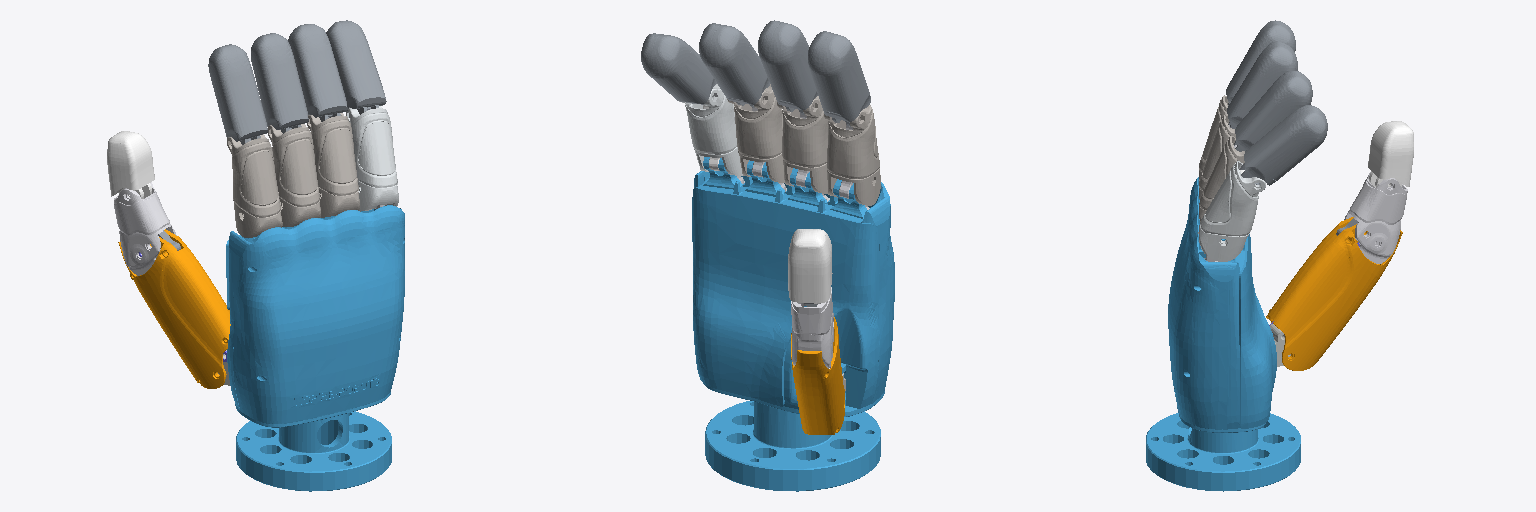
--- What the picture shows (computed from the rendered views, not written in the file) ---
The picture shows the robot from 3 angles, left to right: view 1: azimuth 30°, elevation 25°; view 2: azimuth 150°, elevation 25°; view 3: azimuth 270°, elevation 25°; orthographic projection.
Model inspire_tactile_hand with 32 links and 31 joints (24 revolute, 6 prismatic, 1 fixed), rooted at world, posed every joint at zero.
Visible links, largest first — view 1: hand_base_link, Link44, Link03, Link64, Link04, Link83, Link73, Link63, Link74, Link84, Link47, Link48; view 2: hand_base_link, Link04, Link03, Link44, Link74, Link64, Link84, Link73, Link63, Link83, Link48, Link47; view 3: hand_base_link, Link44, Link83, Link84, Link47, Link74, Link48, Link64, Link04, Link73, Link63, Link03.
Link boxes in pixels (bbox=[...]): hand_base_link: bbox=[226, 205, 404, 491]; Link44: bbox=[118, 229, 230, 388]; Link03: bbox=[227, 134, 282, 237]; Link64: bbox=[251, 33, 308, 133]; Link04: bbox=[208, 44, 267, 144]; Link83: bbox=[346, 106, 398, 211]; Link73: bbox=[307, 113, 359, 217]; Link63: bbox=[268, 124, 320, 226]; Link74: bbox=[288, 24, 347, 121]; Link84: bbox=[326, 20, 386, 114]; Link47: bbox=[114, 182, 176, 275]; Link48: bbox=[107, 131, 154, 198]; hand_base_link: bbox=[692, 157, 894, 491]; Link04: bbox=[808, 31, 870, 126]; Link03: bbox=[824, 105, 880, 205]; Link44: bbox=[791, 317, 844, 434]; Link74: bbox=[699, 23, 769, 107]; Link64: bbox=[758, 20, 817, 114]; Link84: bbox=[641, 33, 716, 104]; Link73: bbox=[727, 84, 784, 182]; Link63: bbox=[777, 96, 828, 193]; Link83: bbox=[679, 84, 742, 175]; Link48: bbox=[788, 229, 832, 303]; Link47: bbox=[791, 287, 833, 367]; hand_base_link: bbox=[1146, 177, 1300, 491]; Link44: bbox=[1266, 217, 1402, 370]; Link83: bbox=[1198, 161, 1265, 261]; Link84: bbox=[1239, 105, 1327, 185]; Link47: bbox=[1344, 172, 1407, 263]; Link74: bbox=[1234, 71, 1312, 151]; Link48: bbox=[1368, 121, 1413, 187]; Link64: bbox=[1227, 42, 1297, 128]; Link04: bbox=[1226, 20, 1295, 105]; Link73: bbox=[1199, 136, 1244, 221]; Link63: bbox=[1199, 114, 1235, 198]; Link03: bbox=[1199, 95, 1228, 180].
Bounding box of the posed robot: 0.1197 × 0.1343 × 0.2264 m (x, y, z).
Meshes: 31 distinct files referenced, 31 mesh visuals loaded (31 binary STL).

URDF robot description (inspire_tactile_hand):
<?xml version="1.0" encoding="utf-8"?>
<!-- This URDF was automatically created by SolidWorks to URDF Exporter! Originally created by Stephen Brawner ([email redacted]) 
     Commit Version: 1.6.0-4-g7f85cfe  Build Version: 1.6.7995.38578
     For more information, please see http://wiki.ros.org/sw_urdf_exporter -->
<robot
  name="inspire_tactile_hand">
  
  <link name="world"/>
  <joint name="fixed" type="fixed">
    <origin
      xyz="0.5 0.5 0.5"
      rpy="3.1415926 0 0" />
    <parent link="world"/>
    <child link="hand_base_link"/>
  </joint>
  
  <link
    name="hand_base_link">
    <inertial>
      <origin
        xyz="0.00040789 0.0043672 -0.042773"
        rpy="0 0 0" />
      <mass
        value="0.091809" />
      <inertia
        ixx="5.4116E-05"
        ixy="4.0634E-07"
        ixz="-1.041E-06"
        iyy="0.00010076"
        iyz="-4.6185E-07"
        izz="9.0663E-05" />
    </inertial>
    <visual>
      <origin
        xyz="0 0 0"
        rpy="0 0 0" />
      <geometry>
        <mesh
          filename="package://inspire_tactile_hand/meshes/base_link.STL" />
      </geometry>
      <material
        name="">
        <color>1 1 1 1</color>
      </material>
    </visual>
    <collision>
      <origin
        xyz="0 0 0"
        rpy="0 0 0" />
      <geometry>
        <mesh
          filename="package://inspire_tactile_hand/meshes/base_link.STL" />
      </geometry>
    </collision>
  </link>
  <link
    name="Link01">
    <inertial>
      <origin
        xyz="-0.0013075 0.00095537 -0.037441"
        rpy="0 0 0" />
      <mass
        value="0.010228" />
      <inertia
        ixx="4.5019E-06"
        ixy="1.389E-09"
        ixz="-1.4756E-07"
        iyy="4.4556E-06"
        iyz="3.959E-08"
        izz="2.8134E-07" />
    </inertial>
    <visual>
      <origin
        xyz="0 0 0"
        rpy="0 0 0" />
      <geometry>
        <mesh
          filename="package://inspire_tactile_hand/meshes/Link01.STL" />
      </geometry>
      <material
        name="">
        <color
          rgba="0.89412 0.91373 0.92941 1" />
      </material>
    </visual>
    <collision>
      <origin
        xyz="0 0 0"
        rpy="0 0 0" />
      <geometry>
        <mesh
          filename="package://inspire_tactile_hand/meshes/Link01.STL" />
      </geometry>
    </collision>
  </link>
  <joint
    name="joint001"
    type="revolute">
    <origin
      xyz="-0.028069 0.0068497 -0.041587"
      rpy="0 0 0" />
    <parent
      link="hand_base_link" />
    <child
      link="Link01" />
    <axis
      xyz="0.99939 0 -0.034899" />
    <limit
      lower="-2"
      upper="2"
      effort="50"
      velocity="1" />
  </joint>
  <link
    name="Link02">
    <inertial>
      <origin
        xyz="-0.00039499 -0.00011147 -0.011311"
        rpy="0 0 0" />
      <mass
        value="0.00096478" />
      <inertia
        ixx="6.7477E-08"
        ixy="-2.0942E-11"
        ixz="-2.1362E-09"
        iyy="6.7215E-08"
        iyz="-5.9961E-10"
        izz="6.3805E-09" />
    </inertial>
    <visual>
      <origin
        xyz="0 0 0"
        rpy="0 0 0" />
      <geometry>
        <mesh
          filename="package://inspire_tactile_hand/meshes/Link02.STL" />
      </geometry>
      <material
        name="">
        <color
          rgba="0.8902 0.8902 0.91373 1" />
      </material>
    </visual>
    <collision>
      <origin
        xyz="0 0 0"
        rpy="0 0 0" />
      <geometry>
        <mesh
          filename="package://inspire_tactile_hand/meshes/Link02.STL" />
      </geometry>
    </collision>
  </link>
  <joint
    name="joint012"
    type="prismatic">
    <origin
      xyz="-0.0024717 -0.00069757 -0.07078"
      rpy="0 0 0" />
    <parent
      link="Link01" />
    <child
      link="Link02" />
    <axis
      xyz="-0.034898 -0.009849 -0.99934" />
    <limit
      lower="-0.001"
      upper="0.0089"
      effort="50"
      velocity="1" />
  </joint>
  <link
    name="Link03">
    <inertial>
      <origin
        xyz="0.0024223 -0.0078624 -0.016577"
        rpy="0 0 0" />
      <mass
        value="0.0090333" />
      <inertia
        ixx="1.768E-06"
        ixy="-7.9691E-09"
        ixz="-3.4656E-08"
        iyy="1.7729E-06"
        iyz="-2.2807E-07"
        izz="7.7843E-07" />
    </inertial>
    <visual>
      <origin
        xyz="0 0 0"
        rpy="0 0 0" />
      <geometry>
        <mesh
          filename="package://inspire_tactile_hand/meshes/Link03.STL" />
      </geometry>
      <material
        name="">
        <color
          rgba="0.77647 0.75686 0.73725 1" />
      </material>
    </visual>
    <collision>
      <origin
        xyz="0 0 0"
        rpy="0 0 0" />
      <geometry>
        <mesh
          filename="package://inspire_tactile_hand/meshes/Link03.STL" />
      </geometry>
    </collision>
  </link>
  <joint
    name="joint023"
    type="revolute">
    <origin
      xyz="-0.0040346 -0.00029252 -0.029576"
      rpy="0 0 0" />
    <parent
      link="Link02" />
    <child
      link="Link03" />
    <axis
      xyz="-0.99939 0 0.034899" />
    <limit
      lower="-2"
      upper="2"
      effort="50"
      velocity="1" />
  </joint>
  <link
    name="Link04">
    <inertial>
      <origin
        xyz="0.0025725 -0.0077235 -0.02232"
        rpy="0 0 0" />
      <mass
        value="0.014494" />
      <inertia
        ixx="2.7886E-06"
        ixy="-2.9364E-08"
        ixz="-5.5659E-08"
        iyy="2.2885E-06"
        iyz="-8.4296E-07"
        izz="1.196E-06" />
    </inertial>
    <visual>
      <origin
        xyz="0 0 0"
        rpy="0 0 0" />
      <geometry>
        <mesh
          filename="package://inspire_tactile_hand/meshes/Link04.STL" />
      </geometry>
      <material
        name="">
        <color
          rgba="0.61569 0.64314 0.67451 1" />
      </material>
    </visual>
    <collision>
      <origin
        xyz="0 0 0"
        rpy="0 0 0" />
      <geometry>
        <mesh
          filename="package://inspire_tactile_hand/meshes/Link04.STL" />
      </geometry>
    </collision>
  </link>
  <joint
    name="joint034"
    type="revolute">
    <origin
      xyz="-0.0016841 -0.017353 -0.038198"
      rpy="0 0 0" />
    <parent
      link="Link03" />
    <child
      link="Link04" />
    <axis
      xyz="0.99939 0 -0.034899" />
    <limit
      lower="-2"
      upper="2"
      effort="50"
      velocity="1" />
  </joint>
  
  <gazebo>
  <joint
    name="joint003"
    type="revolute">
    <pose relative_to = "hand_base_link">-0.0345 -0.00015498 -0.14553 0 -1.5359 0</pose>
    <parent>hand_base_link</parent>
    <child>Link03</child>
    <axis>0 0 1</axis>
    <limit
      lower="-2"
      upper="2"
      effort="50"
      velocity="1" />
  </joint>
  </gazebo>
  
  <link
    name="Link05">
    <inertial>
      <origin
        xyz="0.0016013 0.0014238 -0.018617"
        rpy="0 0 0" />
      <mass
        value="0.00069948" />
      <inertia
        ixx="1.2081E-07"
        ixy="3.317E-10"
        ixz="-4.1019E-09"
        iyy="1.2037E-07"
        iyz="9.4987E-09"
        izz="3.4934E-09" />
    </inertial>
    <visual>
      <origin
        xyz="0 0 0"
        rpy="0 0 0" />
      <geometry>
        <mesh
          filename="package://inspire_tactile_hand/meshes/Link05.STL" />
      </geometry>
      <material
        name="">
        <color
          rgba="0.8902 0.8902 0.91373 1" />
      </material>
    </visual>
    <collision>
      <origin
        xyz="0 0 0"
        rpy="0 0 0" />
      <geometry>
        <mesh
          filename="package://inspire_tactile_hand/meshes/Link05.STL" />
      </geometry>
    </collision>
  </link>
  <joint
    name="joint005"
    type="revolute">
    <origin
      xyz="-0.033786 -0.0067159 -0.14085"
      rpy="0 0 0" />
    <parent
      link="hand_base_link" />
    <child
      link="Link05" />
    <axis
      xyz="0.99939 0 -0.034899" />
    <limit
      lower="-2"
      upper="2"
      effort="50"
      velocity="1" />
  </joint>
  
  <gazebo>
  <joint
    name="joint054"
    type="revolute">
    <pose relative_to = "Link05">-0.0032193 0.0026583 -0.036313 0 -1.5359 0</pose>
    <parent>Link05</parent>
    <child>Link04</child>
    <axis>0 0 -1</axis>
    <limit
      lower="-2"
      upper="2"
      effort="50"
      velocity="1" />
  </joint>
  </gazebo>
  
  
  
  <link
    name="Link41">
    <inertial>
      <origin
        xyz="-0.02607 -0.00010211 -0.0060545"
        rpy="0 0 0" />
      <mass
        value="0.010429" />
      <inertia
        ixx="7.6968E-07"
        ixy="-6.219E-09"
        ixz="-2.9412E-08"
        iyy="2.3567E-06"
        iyz="-1.1747E-10"
        izz="1.8027E-06" />
    </inertial>
    <visual>
      <origin
        xyz="0 0 0"
        rpy="0 0 0" />
      <geometry>
        <mesh
          filename="package://inspire_tactile_hand/meshes/Link41.STL" />
      </geometry>
      <material
        name="">
        <color
          rgba="0.75294 0.75294 0.75294 1" />
      </material>
    </visual>
    <collision>
      <origin
        xyz="0 0 0"
        rpy="0 0 0" />
      <geometry>
        <mesh
          filename="package://inspire_tactile_hand/meshes/Link41.STL" />
      </geometry>
    </collision>
  </link>
  <joint
    name="joint401"
    type="revolute">
    <origin
      xyz="0.033577 -0.0119 -0.04755"
      rpy="0 0 0" />
    <parent
      link="hand_base_link" />
    <child
      link="Link41" />
    <axis
      xyz="0 0 1" />
    <limit
      lower="-2"
      upper="2"
      effort="50"
      velocity="1" />
  </joint>
  <link
    name="Link42">
    <inertial>
      <origin
        xyz="-0.01074 -4.2071E-05 3.1818E-10"
        rpy="0 0 0" />
      <mass
        value="0.0006939" />
      <inertia
        ixx="6.1418E-09"
        ixy="-5.4783E-11"
        ixz="1.3215E-15"
        iyy="2.0129E-08"
        iyz="1.3405E-17"
        izz="2.0374E-08" />
    </inertial>
    <visual>
      <origin
        xyz="0 0 0"
        rpy="0 0 0" />
      <geometry>
        <mesh
          filename="package://inspire_tactile_hand/meshes/Link42.STL" />
      </geometry>
      <material
        name="">
        <color
          rgba="0.77647 0.75686 0.73725 1" />
      </material>
    </visual>
    <collision>
      <origin
        xyz="0 0 0"
        rpy="0 0 0" />
      <geometry>
        <mesh
          filename="package://inspire_tactile_hand/meshes/Link42.STL" />
      </geometry>
    </collision>
  </link>
  <joint
    name="joint412"
    type="prismatic">
    <origin
      xyz="-0.047038 -0.00018427 0"
      rpy="0 0 0" />
    <parent
      link="Link41" />
    <child
      link="Link42" />
    <axis
      xyz="0.99999 0.0039175 0" />
    <limit
      lower="-0.0027"
      upper="0.006"
      effort="50"
      velocity="1" />
  </joint>
  <link
    name="Link43">
    <inertial>
      <origin
        xyz="-0.00093154 -0.012832 0.0053322"
        rpy="0 0 0" />
      <mass
        value="0.0020853" />
      <inertia
        ixx="1.1253E-07"
        ixy="-6.7093E-09"
        ixz="-1.4985E-09"
        iyy="7.7841E-08"
        iyz="-5.6524E-09"
        izz="8.0107E-08" />
    </inertial>
    <visual>
      <origin
        xyz="0 0 0"
        rpy="0 0 0" />
      <geometry>
        <mesh
          filename="package://inspire_tactile_hand/meshes/Link43.STL" />
      </geometry>
      <material
        name="">
        <color
          rgba="0.82745 0.83922 0.82745 1" />
      </material>
    </visual>
    <collision>
      <origin
        xyz="0 0 0"
        rpy="0 0 0" />
      <geometry>
        <mesh
          filename="package://inspire_tactile_hand/meshes/Link43.STL" />
      </geometry>
    </collision>
  </link>
  <joint
    name="joint423"
    type="revolute">
    <origin
      xyz="-0.01625 -6.3659E-05 -0.0065"
      rpy="0 0 0" />
    <parent
      link="Link42" />
    <child
      link="Link43" />
    <axis
      xyz="0 0 1" />
    <limit
      lower="-2"
      upper="2"
      effort="50"
      velocity="1" />
  </joint>
  <link
    name="Link44">
    <inertial>
      <origin
        xyz="-0.0043015 -0.022596 -0.023668"
        rpy="0 0 0" />
      <mass
        value="0.010572" />
      <inertia
        ixx="6.7103E-06"
        ixy="-8.3093E-07"
        ixz="-8.5679E-07"
        iyy="5.2737E-06"
        iyz="-1.8755E-06"
        izz="3.1575E-06" />
    </inertial>
    <visual>
      <origin
        xyz="0 0 0"
        rpy="0 0 0" />
      <geometry>
        <mesh
          filename="package://inspire_tactile_hand/meshes/Link44.STL" />
      </geometry>
      <material
        name="">
        <color
          rgba="1 0.66667 0.090196 1" />
      </material>
    </visual>
    <collision>
      <origin
        xyz="0 0 0"
        rpy="0 0 0" />
      <geometry>
        <mesh
          filename="package://inspire_tactile_hand/meshes/Link44.STL" />
      </geometry>
    </collision>
  </link>
  <joint
    name="joint434"
    type="revolute">
    <origin
      xyz="-0.0078317 -0.015666 0.0069"
      rpy="0 0 0" />
    <parent
      link="Link43" />
    <child
      link="Link44" />
    <axis
      xyz="-0.90914 0.4165 0" />
    <limit
      lower="-2"
      upper="2"
      effort="50"
      velocity="1" />
  </joint>
  <link
    name="Link45">
    <inertial>
      <origin
        xyz="-0.0052468 -0.011453 -0.023466"
        rpy="0 0 0" />
      <mass
        value="0.010821" />
      <inertia
        ixx="2.2232E-06"
        ixy="-3.6867E-07"
        ixz="-2.11E-07"
        iyy="1.5873E-06"
        iyz="-4.6058E-07"
        izz="1.193E-06" />
    </inertial>
    <visual>
      <origin
        xyz="0 0 0"
        rpy="0 0 0" />
      <geometry>
        <mesh
          filename="package://inspire_tactile_hand/meshes/Link45.STL" />
      </geometry>
      <material
        name="">
        <color
          rgba="1 1 1 1" />
      </material>
    </visual>
    <collision>
      <origin
        xyz="0 0 0"
        rpy="0 0 0" />
      <geometry>
        <mesh
          filename="package://inspire_tactile_hand/meshes/Link45.STL" />
      </geometry>
    </collision>
  </link>
  <joint
    name="joint445"
    type="revolute">
    <origin
      xyz="0.00088606 -0.011271 -0.00010738"
      rpy="0 0 0" />
    <parent
      link="Link44" />
    <child
      link="Link45" />
    <axis
      xyz="0.90914 -0.4165 0" />
    <limit
      lower="-2"
      upper="2"
      effort="50"
      velocity="1" />
  </joint>
  <link
    name="Link46">
    <inertial>
      <origin
        xyz="-0.0015687 -0.0034242 -0.0043416"
        rpy="0 0 0" />
      <mass
        value="0.00054209" />
      <inertia
        ixx="8.7659E-09"
        ixy="-8.607E-10"
        ixz="-1.0691E-09"
        iyy="7.2814E-09"
        iyz="-2.3337E-09"
        izz="6.155E-09" />
    </inertial>
    <visual>
      <origin
        xyz="0 0 0"
        rpy="0 0 0" />
      <geometry>
        <mesh
          filename="package://inspire_tactile_hand/meshes/Link46.STL" />
      </geometry>
      <material
        name="">
        <color
          rgba="0.77647 0.75686 0.73725 1" />
      </material>
    </visual>
    <collision>
      <origin
        xyz="0 0 0"
        rpy="0 0 0" />
      <geometry>
        <mesh
          filename="package://inspire_tactile_hand/meshes/Link46.STL" />
      </geometry>
    </collision>
  </link>
  <joint
    name="joint456"
    type="prismatic">
    <origin
      xyz="-0.013096 -0.028586 -0.036244"
      rpy="0 0 0" />
    <parent
      link="Link45" />
    <child
      link="Link46" />
    <axis
      xyz="0.27293 0.59575 0.75537" />
    <limit
      lower="-0.0058"
      upper="0.0042"
      effort="50"
      velocity="1" />
  </joint>
  <link
    name="Link47">
    <inertial>
      <origin
        xyz="0.0033514 -0.00228 -0.016194"
        rpy="0 0 0" />
      <mass
        value="0.0057253" />
      <inertia
        ixx="8.817E-07"
        ixy="-2.5206E-08"
        ixz="-2.7134E-08"
        iyy="8.3807E-07"
        iyz="-5.9117E-08"
        izz="5.0904E-07" />
    </inertial>
    <visual>
      <origin
        xyz="0 0 0"
        rpy="0 0 0" />
      <geometry>
        <mesh
          filename="package://inspire_tactile_hand/meshes/Link47.STL" />
      </geometry>
      <material
        name="">
        <color
          rgba="0.8902 0.8902 0.91373 1" />
      </material>
    </visual>
    <collision>
      <origin
        xyz="0 0 0"
        rpy="0 0 0" />
      <geometry>
        <mesh
          filename="package://inspire_tactile_hand/meshes/Link47.STL" />
      </geometry>
    </collision>
  </link>
  <joint
    name="joint467"
    type="revolute">
    <origin
      xyz="-0.0077305 -0.0072703 -0.011331"
      rpy="0 0 0" />
    <parent
      link="Link46" />
    <child
      link="Link47" />
    <axis
      xyz="-0.90914 0.4165 0" />
    <limit
      lower="-2"
      upper="2"
      effort="50"
      velocity="1" />
  </joint>
  <link
    name="Link48">
    <inertial>
      <origin
        xyz="0.0025446 -0.0064579 -0.013497"
        rpy="0 0 0" />
      <mass
        value="0.0085167" />
      <inertia
        ixx="7.8199E-07"
        ixy="-1.7948E-09"
        ixz="-1.5676E-08"
        iyy="7.7878E-07"
        iyz="-3.332E-08"
        izz="4.227E-07" />
    </inertial>
    <visual>
      <origin
        xyz="0 0 0"
        rpy="0 0 0" />
      <geometry>
        <mesh
          filename="package://inspire_tactile_hand/meshes/Link48.STL" />
      </geometry>
      <material
        name="">
        <color
          rgba="1 1 1 1" />
      </material>
    </visual>
    <collision>
      <origin
        xyz="0 0 0"
        rpy="0 0 0" />
      <geometry>
        <mesh
          filename="package://inspire_tactile_hand/meshes/Link48.STL" />
      </geometry>
    </collision>
  </link>
  <joint
    name="joint478"
    type="revolute">
    <origin
      xyz="-0.0026009 -0.0032704 -0.035056"
      rpy="0 0 0" />
    <parent
      link="Link47" />
    <child
      link="Link48" />
    <axis
      xyz="-0.90914 0.4165 0" />
    <limit
      lower="-2"
      upper="2"
      effort="50"
      velocity="1" />
  </joint>
  <link
    name="Link49">
    <inertial>
      <origin
        xyz="-0.0036703 -0.013894 -0.011545"
        rpy="0 0 0" />
      <mass
        value="0.00041351" />
      <inertia
        ixx="6.5362E-08"
        ixy="-1.646E-08"
        ixz="-1.4617E-08"
        iyy="3.6973E-08"
        iyz="-3.1907E-08"
        izz="4.5125E-08" />
    </inertial>
    <visual>
      <origin
        xyz="0 0 0"
        rpy="0 0 0" />
      <geometry>
        <mesh
          filename="package://inspire_tactile_hand/meshes/Link49.STL" />
      </geometry>
      <material
        name="">
        <color
          rgba="0.61569 0.64314 0.67451 1" />
      </material>
    </visual>
    <collision>
      <origin
        xyz="0 0 0"
        rpy="0 0 0" />
      <geometry>
        <mesh
          filename="package://inspire_tactile_hand/meshes/Link49.STL" />
      </geometry>
    </collision>
  </link>
  <joint
    name="joint449"
    type="revolute">
    <origin
      xyz="-0.010887 -0.031082 -0.056915"
      rpy="0 0 0" />
    <parent
      link="Link44" />
    <child
      link="Link49" />
    <axis
      xyz="0.90914 -0.4165 0" />
    <limit
      lower="-2"
      upper="2"
      effort="50"
      velocity="1" />
  </joint>
  
  <gazebo>
  <joint
    name="joint498"
    type="revolute">
    <pose relative_to = "Link49">-0.013754 -0.0239 -0.022185 0.42959 1.5708 0</pose>
    <parent>Link49</parent>
    <child>Link48</child>
    <axis>0 0 -1</axis>
    <limit
      lower="-2"
      upper="2"
      effort="50"
      velocity="1" />
  </joint>
  </gazebo>
  
  <gazebo>
  <joint
    name="joint447"
    type="revolute">
    <pose relative_to = "Link44">-0.017556 -0.038119 -0.058998 0.42959 1.5708 0</pose>
    <parent>Link44</parent>
    <child>Link47</child>
    <axis>0 0 -1</axis>
    <limit
      lower="-2"
      upper="2"
      effort="50"
      velocity="1" />
  </joint>
  </gazebo>
  
  <link
    name="Link50">
    <inertial>
      <origin
        xyz="-0.0099913 -0.02301 -0.021601"
        rpy="0 0 0" />
      <mass
        value="0.00041134" />
      <inertia
        ixx="1.4792E-07"
        ixy="-3.562E-08"
        ixz="-3.331E-08"
        iyy="8.6481E-08"
        iyz="-7.2709E-08"
        izz="9.414E-08" />
    </inertial>
    <visual>
      <origin
        xyz="0 0 0"
        rpy="0 0 0" />
      <geometry>
        <mesh
          filename="package://inspire_tactile_hand/meshes/Link50.STL" />
      </geometry>
      <material
        name="">
        <color
          rgba="0.52157 0.49804 1 1" />
      </material>
    </visual>
    <collision>
      <origin
        xyz="0 0 0"
        rpy="0 0 0" />
      <geometry>
        <mesh
          filename="package://inspire_tactile_hand/meshes/Link50.STL" />
      </geometry>
    </collision>
  </link>
  <joint
    name="joint4350"
    type="revolute">
    <origin
      xyz="-0.0076736 -0.01292 -0.0026627"
      rpy="0 0 0" />
    <parent
      link="Link43" />
    <child
      link="Link50" />
    <axis
      xyz="0.90914 -0.4165 0" />
    <limit
      lower="-2"
      upper="2"
      effort="50"
      velocity="1" />
  </joint>
  
  <gazebo>
  <joint
    name="joint5047"
    type="revolute">
    <pose relative_to = "Link50">-0.019983 -0.046019 -0.043201 2.712 -1.5708 0</pose>
    <parent>Link50</parent>
    <child>Link47</child>
    <axis>0 0 -1</axis>
    <limit
      lower="-2"
      upper="2"
      effort="50"
      velocity="1" />
  </joint>
  </gazebo>
  
  <gazebo>
  <joint
    name="joint0043"
    type="revolute">
    <pose relative_to = "hand_base_link">-0.027753 -0.01965 -0.04105 0 0 0</pose>
    <parent>hand_base_link</parent>
    <child>Link43</child>
    <axis>0 0 -1</axis>
    <limit
      lower="-2"
      upper="2"
      effort="50"
      velocity="1" />
  </joint>
  </gazebo>
  
  
  
  
  
  <link
    name="Link61">
    <inertial>
      <origin
        xyz="-5.8081E-09 0.00096977 -0.037464"
        rpy="0 0 0" />
      <mass
        value="0.010228" />
      <inertia
        ixx="4.507E-06"
        ixy="6.4862E-12"
        ixz="2.1739E-12"
        iyy="4.4556E-06"
        iyz="4.1221E-08"
        izz="2.7622E-07" />
    </inertial>
    <visual>
      <origin
        xyz="0 0 0"
        rpy="0 0 0" />
      <geometry>
        <mesh
          filename="package://inspire_tactile_hand/meshes/Link61.STL" />
      </geometry>
      <material
        name="">
        <color
          rgba="0.89412 0.91373 0.92941 1" />
      </material>
    </visual>
    <collision>
      <origin
        xyz="0 0 0"
        rpy="0 0 0" />
      <geometry>
        <mesh
          filename="package://inspire_tactile_hand/meshes/Link61.STL" />
      </geometry>
    </collision>
  </link>
  <joint
    name="joint601"
    type="revolute">
    <origin
      xyz="-0.0093101 0.0068497 -0.0419"
      rpy="0 0 0" />
    <parent
      link="hand_base_link" />
    <child
      link="Link61" />
    <axis
      xyz="1 0 0" />
    <limit
      lower="-2"
      upper="2"
      effort="50"
      velocity="1" />
  </joint>
  <link
    name="Link62">
    <inertial>
      <origin
        xyz="8.9543E-11 -0.00010713 -0.011318"
        rpy="0 0 0" />
      <mass
        value="0.00096478" />
      <inertia
        ixx="6.7552E-08"
        ixy="-3.0314E-15"
        ixz="1.5268E-15"
        iyy="6.7216E-08"
        iyz="-5.7659E-10"
        izz="6.3055E-09" />
    </inertial>
    <visual>
      <origin
        xyz="0 0 0"
        rpy="0 0 0" />
      <geometry>
        <mesh
          filename="package://inspire_tactile_hand/meshes/Link62.STL" />
      </geometry>
      <material
        name="">
        <color
          rgba="0.8902 0.8902 0.91373 1" />
      </material>
    </visual>
    <collision>
      <origin
        xyz="0 0 0"
        rpy="0 0 0" />
      <geometry>
        <mesh
          filename="package://inspire_tactile_hand/meshes/Link62.STL" />
      </geometry>
    </collision>
  </link>
  <joint
    name="joint612"
    type="prismatic">
    <origin
      xyz="0 -0.00067089 -0.07088"
      rpy="0 0 0" />
    <parent
      link="Link61" />
    <child
      link="Link62" />
    <axis
      xyz="0 -0.0094647 -0.99996" />
    <limit
      lower="-0.001"
      upper="0.00875"
      effort="50"
      velocity="1" />
  </joint>
  <link
    name="Link63">
    <inertial>
      <origin
        xyz="0.0029993 -0.0080389 -0.016397"
        rpy="0 0 0" />
      <mass
        value="0.0090333" />
      <inertia
        ixx="1.7692E-06"
        ixy="-4.4344E-12"
        ixz="-5.4693E-11"
        iyy="1.7679E-06"
        iyz="-2.3885E-07"
        izz="7.8224E-07" />
    </inertial>
    <visual>
      <origin
        xyz="0 0 0"
        rpy="0 0 0" />
      <geometry>
        <mesh
          filename="package://inspire_tactile_hand/meshes/Link63.STL" />
      </geometry>
      <material
        name="">
        <color
          rgba="0.77647 0.75686 0.73725 1" />
      </material>
    </visual>
    <collision>
      <origin
        xyz="0 0 0"
        rpy="0 0 0" />
      <geometry>
        <mesh
          filename="package://inspire_tactile_hand/meshes/Link63.STL" />
      </geometry>
    </collision>
  </link>
  <joint
    name="joint623"
    type="revolute">
    <origin
      xyz="-0.003 -0.0002811 -0.029699"
      rpy="0 0 0" />
    <parent
      link="Link62" />
    <child
      link="Link63" />
    <axis
      xyz="-1 0 0" />
    <limit
      lower="-2"
      upper="2"
      effort="50"
      velocity="1" />
  </joint>
  <link
    name="Link64">
    <inertial>
      <origin
        xyz="0.0044999 -0.0081547 -0.022062"
        rpy="0 0 0" />
      <mass
        value="0.014494" />
      <inertia
        ixx="2.7905E-06"
        ixy="7.3203E-11"
        ixz="2.4362E-11"
        iyy="2.2552E-06"
        iyz="-8.6414E-07"
        izz="1.2273E-06" />
    </inertial>
    <visual>
      <origin
        xyz="0 0 0"
        rpy="0 0 0" />
      <geometry>
        <mesh
          filename="package://inspire_tactile_hand/meshes/Link64.STL" />
      </geometry>
      <material
        name="">
        <color
          rgba="0.61569 0.64314 0.67451 1" />
      </material>
    </visual>
    <collision>
      <origin
        xyz="0 0 0"
        rpy="0 0 0" />
      <geometry>
        <mesh
          filename="package://inspire_tactile_hand/meshes/Link64.STL" />
      </geometry>
    </collision>
  </link>
  <joint
    name="joint634"
    type="revolute">
    <origin
      xyz="-0.0015 -0.017763 -0.038045"
      rpy="0 0 0" />
    <parent
      link="Link63" />
    <child
      link="Link64" />
    <axis
      xyz="1 0 0" />
    <limit
      lower="-2"
      upper="2"
      effort="50"
      velocity="1" />
  </joint>
  
  <gazebo>
  <joint
    name="joint603"
    type="revolute">
    <pose relative_to = "hand_base_link">-0.01231 -0.00015498 -0.146 0 1.5708 0</pose>
    <parent>hand_base_link</parent>
    <child>Link63</child>
    <axis>0 0 1</axis>
    <limit
      lower="-2"
      upper="2"
      effort="50"
      velocity="1" />
  </joint>
  </gazebo>
  
  <link
    name="Link65">
    <inertial>
      <origin
        xyz="0.00225 0.0012631 -0.018561"
        rpy="0 0 0" />
      <mass
        value="0.00069948" />
      <inertia
        ixx="1.2096E-07"
        ixy="-9.2445E-19"
        ixz="5.4764E-18"
        iyy="1.2053E-07"
        iyz="8.49E-09"
        izz="3.1944E-09" />
    </inertial>
    <visual>
      <origin
        xyz="0 0 0"
        rpy="0 0 0" />
      <geometry>
        <mesh
          filename="package://inspire_tactile_hand/meshes/Link65.STL" />
      </geometry>
      <material
        name="">
        <color
          rgba="0.8902 0.8902 0.91373 1" />
      </material>
    </visual>
    <collision>
      <origin
        xyz="0 0 0"
        rpy="0 0 0" />
      <geometry>
        <mesh
          filename="package://inspire_tactile_hand/meshes/Link65.STL" />
      </geometry>
    </collision>
  </link>
  <joint
    name="joint605"
    type="revolute">
    <origin
      xyz="-0.01156 -0.0067159 -0.14129"
      rpy="0 0 0" />
    <parent
      link="hand_base_link" />
    <child
      link="Link65" />
    <axis
      xyz="1 0 0" />
    <limit
      lower="-2"
      upper="2"
      effort="50"
      velocity="1" />
  </joint>
  
  <gazebo>
  <joint
    name="joint654"
    type="revolute">
    <pose relative_to = "Link65">0 0.002343 -0.036425 3.1416 -1.5708 0</pose>
    <parent>Link65</parent>
    <child>Link64</child>
    <axis>0 0 -1</axis>
    <limit
      lower="-2"
      upper="2"
      effort="50"
      velocity="1" />
  </joint>
  </gazebo>
  
  
  
  
  
  <link
    name="Link71">
    <inertial>
      <origin
        xyz="0.0019618 0.0011225 -0.037408"
        rpy="0 0 0" />
      <mass
        value="0.010228" />
      <inertia
        ixx="4.4954E-06"
        ixy="-3.0443E-09"
        ixz="2.2125E-07"
        iyy="4.4552E-06"
        iyz="5.8174E-08"
        izz="2.8823E-07" />
    </inertial>
    <visual>
      <origin
        xyz="0 0 0"
        rpy="0 0 0" />
      <geometry>
        <mesh
          filename="package://inspire_tactile_hand/meshes/Link71.STL" />
      </geometry>
      <material
        name="">
        <color
          rgba="0.89412 0.91373 0.92941 1" />
      </material>
    </visual>
    <collision>
      <origin
        xyz="0 0 0"
        rpy="0 0 0" />
      <geometry>
        <mesh
          filename="package://inspire_tactile_hand/meshes/Link71.STL" />
      </geometry>
    </collision>
  </link>
  <joint
    name="joint701"
    type="revolute">
    <origin
      xyz="0.0075691 0.0068497 -0.041418"
      rpy="0 0 0" />
    <parent
      link="hand_base_link" />
    <child
      link="Link71" />
    <axis
      xyz="0.99863 0 0.05237" />
    <limit
      lower="-2"
      upper="2"
      effort="50"
      velocity="1" />
  </joint>
  <link
    name="Link72">
    <inertial>
      <origin
        xyz="0.00059274 -6.0994E-05 -0.011303"
        rpy="0 0 0" />
      <mass
        value="0.00096478" />
      <inertia
        ixx="6.7384E-08"
        ixy="1.719E-11"
        ixz="3.2033E-09"
        iyy="6.722E-08"
        iyz="-3.2784E-10"
        izz="6.4698E-09" />
    </inertial>
    <visual>
      <origin
        xyz="0 0 0"
        rpy="0 0 0" />
      <geometry>
        <mesh
          filename="package://inspire_tactile_hand/meshes/Link72.STL" />
      </geometry>
      <material
        name="">
        <color
          rgba="0.8902 0.8902 0.91373 1" />
      </material>
    </visual>
    <collision>
      <origin
        xyz="0 0 0"
        rpy="0 0 0" />
      <geometry>
        <mesh
          filename="package://inspire_tactile_hand/meshes/Link72.STL" />
      </geometry>
    </collision>
  </link>
  <joint
    name="joint712"
    type="prismatic">
    <origin
      xyz="0.0037717 -0.00038812 -0.07192"
      rpy="0 0 0" />
    <parent
      link="Link71" />
    <child
      link="Link72" />
    <axis
      xyz="0.05237 -0.005389 -0.99861" />
    <limit
      lower="-0.0015"
      upper="0.0083"
      effort="50"
      velocity="1" />
  </joint>
  <link
    name="Link73">
    <inertial>
      <origin
        xyz="0.0038023 -0.0094406 -0.015218"
        rpy="0 0 0" />
      <mass
        value="0.0090332" />
      <inertia
        ixx="1.7667E-06"
        ixy="1.6357E-08"
        ixz="4.9311E-08"
        iyy="1.7247E-06"
        iyz="-3.1204E-07"
        izz="8.28E-07" />
    </inertial>
    <visual>
      <origin
        xyz="0 0 0"
        rpy="0 0 0" />
      <geometry>
        <mesh
          filename="package://inspire_tactile_hand/meshes/Link73.STL" />
      </geometry>
      <material
        name="">
        <color
          rgba="0.77647 0.75686 0.73725 1" />
      </material>
    </visual>
    <collision>
      <origin
        xyz="0 0 0"
        rpy="0 0 0" />
      <geometry>
        <mesh
          filename="package://inspire_tactile_hand/meshes/Link73.STL" />
      </geometry>
    </collision>
  </link>
  <joint
    name="joint723"
    type="revolute">
    <origin
      xyz="-0.0014405 -0.00016005 -0.029816"
      rpy="0 0 0" />
    <parent
      link="Link72" />
    <child
      link="Link73" />
    <axis
      xyz="-0.99863 0 -0.05237" />
    <limit
      lower="-2"
      upper="2"
      effort="50"
      velocity="1" />
  </joint>
  <link
    name="Link74">
    <inertial>
      <origin
        xyz="0.0052769 -0.01121 -0.02043"
        rpy="0 0 0" />
      <mass
        value="0.014495" />
      <inertia
        ixx="2.7871E-06"
        ixy="5.1066E-08"
        ixz="6.7946E-08"
        iyy="1.9912E-06"
        iyz="-9.7258E-07"
        izz="1.495E-06" />
    </inertial>
    <visual>
      <origin
        xyz="0 0 0"
        rpy="0 0 0" />
      <geometry>
        <mesh
          filename="package://inspire_tactile_hand/meshes/Link74.STL" />
      </geometry>
      <material
        name="">
        <color
          rgba="0.61569 0.64314 0.67451 1" />
      </material>
    </visual>
    <collision>
      <origin
        xyz="0 0 0"
        rpy="0 0 0" />
      <geometry>
        <mesh
          filename="package://inspire_tactile_hand/meshes/Link74.STL" />
      </geometry>
    </collision>
  </link>
  <joint
    name="joint734"
    type="revolute">
    <origin
      xyz="0.00069906 -0.020824 -0.036228"
      rpy="0 0 0" />
    <parent
      link="Link73" />
    <child
      link="Link74" />
    <axis
      xyz="0.99863 0 0.05237" />
    <limit
      lower="-2"
      upper="2"
      effort="50"
      velocity="1" />
  </joint>
  
  <gazebo>
  <joint
    name="joint703"
    type="revolute">
    <pose relative_to = "hand_base_link">0.010242 -0.00015498 -0.14584 0 1.5184 0</pose>
    <parent>hand_base_link</parent>
    <child>Link73</child>
    <axis>0.05237 0 0.99863</axis>
    <limit
      lower="-2"
      upper="2"
      effort="50"
      velocity="1" />
  </joint>
  </gazebo>
  
  <link
    name="Link75">
    <inertial>
      <origin
        xyz="0.0032212 7.3093E-05 -0.018461"
        rpy="0 0 0" />
      <mass
        value="0.00069948" />
      <inertia
        ixx="1.2063E-07"
        ixy="-4.8676E-11"
        ixz="6.1904E-09"
        iyy="1.2113E-07"
        iyz="9.2819E-10"
        izz="2.9152E-09" />
    </inertial>
    <visual>
      <origin
        xyz="0 0 0"
        rpy="0 0 0" />
      <geometry>
        <mesh
          filename="package://inspire_tactile_hand/meshes/Link75.STL" />
      </geometry>
      <material
        name="">
        <color
          rgba="0.8902 0.8902 0.91373 1" />
      </material>
    </visual>
    <collision>
      <origin
        xyz="0 0 0"
        rpy="0 0 0" />
      <geometry>
        <mesh
          filename="package://inspire_tactile_hand/meshes/Link75.STL" />
      </geometry>
    </collision>
  </link>
  <joint
    name="joint705"
    type="revolute">
    <origin
      xyz="0.010545 -0.0067159 -0.14112"
      rpy="0 0 0" />
    <parent
      link="hand_base_link" />
    <child
      link="Link75" />
    <axis
      xyz="0.99863 0 0.05237" />
    <limit
      lower="-2"
      upper="2"
      effort="50"
      velocity="1" />
  </joint>
  
  <gazebo>
  <joint
    name="joint754"
    type="revolute">
    <pose relative_to = "Link75">-3.5806E-05 0 -0.036552 -3.1416 -1.5184 3.1416</pose>
    <parent>Link75</parent>
    <child>Link74</child>
    <axis>0 0 -1</axis>
    <limit
      lower="-2"
      upper="2"
      effort="50"
      velocity="1" />
  </joint>
  </gazebo>
  
  
  
  
  
  
  <link
    name="Link81">
    <inertial>
      <origin
        xyz="0.0039155 0.0011531 -0.037253"
        rpy="0 0 0" />
      <mass
        value="0.010228" />
      <inertia
        ixx="4.4608E-06"
        ixy="-6.44E-09"
        ixz="4.3977E-07"
        iyy="4.4551E-06"
        iyz="6.1335E-08"
        izz="3.2294E-07" />
    </inertial>
    <visual>
      <origin
        xyz="0 0 0"
        rpy="0 0 0" />
      <geometry>
        <mesh
          filename="package://inspire_tactile_hand/meshes/Link81.STL" />
      </geometry>
      <material
        name="">
        <color
          rgba="0.89412 0.91373 0.92941 1" />
      </material>
    </visual>
    <collision>
      <origin
        xyz="0 0 0"
        rpy="0 0 0" />
      <geometry>
        <mesh
          filename="package://inspire_tactile_hand/meshes/Link81.STL" />
      </geometry>
    </collision>
  </link>
  <joint
    name="joint801"
    type="revolute">
    <origin
      xyz="0.024584 0.0068497 -0.040053"
      rpy="0 0 0" />
    <parent
      link="hand_base_link" />
    <child
      link="Link81" />
    <axis
      xyz="0.99452 0 0.10453" />
    <limit
      lower="-2"
      upper="2"
      effort="50"
      velocity="1" />
  </joint>
  <link
    name="Link82">
    <inertial>
      <origin
        xyz="0.0011831 -5.1734E-05 -0.011256"
        rpy="0 0 0" />
      <mass
        value="0.00096478" />
      <inertia
        ixx="6.6883E-08"
        ixy="2.9102E-11"
        ixz="6.3674E-09"
        iyy="6.722E-08"
        iyz="-2.7692E-10"
        izz="6.9705E-09" />
    </inertial>
    <visual>
      <origin
        xyz="0 0 0"
        rpy="0 0 0" />
      <geometry>
        <mesh
          filename="package://inspire_tactile_hand/meshes/Link82.STL" />
      </geometry>
      <material
        name="">
        <color
          rgba="0.8902 0.8902 0.91373 1" />
      </material>
    </visual>
    <collision>
      <origin
        xyz="0 0 0"
        rpy="0 0 0" />
      <geometry>
        <mesh
          filename="package://inspire_tactile_hand/meshes/Link82.STL" />
      </geometry>
    </collision>
  </link>
  <joint
    name="joint812"
    type="prismatic">
    <origin
      xyz="0.0075062 -0.00032824 -0.071417"
      rpy="0 0 0" />
    <parent
      link="Link81" />
    <child
      link="Link82" />
    <axis
      xyz="0.10453 -0.0045708 -0.99451" />
    <limit
      lower="-0.002"
      upper="0.0079"
      effort="50"
      velocity="1" />
  </joint>
  <link
    name="Link83">
    <inertial>
      <origin
        xyz="0.0045388 -0.010579 -0.01449"
        rpy="0 0 0" />
      <mass
        value="0.0090332" />
      <inertia
        ixx="1.7596E-06"
        ixy="4.0057E-08"
        ixz="9.1983E-08"
        iyy="1.6662E-06"
        iyz="-3.8124E-07"
        izz="8.936E-07" />
    </inertial>
    <visual>
      <origin
        xyz="0 0 0"
        rpy="0 0 0" />
      <geometry>
        <mesh
          filename="package://inspire_tactile_hand/meshes/Link83.STL" />
      </geometry>
      <material
        name="">
        <color
          rgba="0.89804 0.91765 0.92941 1" />
      </material>
    </visual>
    <collision>
      <origin
        xyz="0 0 0"
        rpy="0 0 0" />
      <geometry>
        <mesh
          filename="package://inspire_tactile_hand/meshes/Link83.STL" />
      </geometry>
    </collision>
  </link>
  <joint
    name="joint823"
    type="revolute">
    <origin
      xyz="0.0001209 -0.00013575 -0.029851"
      rpy="0 0 0" />
    <parent
      link="Link82" />
    <child
      link="Link83" />
    <axis
      xyz="-0.99452 0 -0.10453" />
    <limit
      lower="-2"
      upper="2"
      effort="50"
      velocity="1" />
  </joint>
  <link
    name="Link84">
    <inertial>
      <origin
        xyz="0.0061306 -0.014278 -0.018151"
        rpy="0 0 0" />
      <mass
        value="0.014495" />
      <inertia
        ixx="2.7798E-06"
        ixy="1.0497E-07"
        ixz="1.0281E-07"
        iyy="1.6811E-06"
        iyz="-9.9816E-07"
        izz="1.8124E-06" />
    </inertial>
    <visual>
      <origin
        xyz="0 0 0"
        rpy="0 0 0" />
      <geometry>
        <mesh
          filename="package://inspire_tactile_hand/meshes/Link84.STL" />
      </geometry>
      <material
        name="">
        <color
          rgba="0.61569 0.64314 0.67451 1" />
      </material>
    </visual>
    <collision>
      <origin
        xyz="0 0 0"
        rpy="0 0 0" />
      <geometry>
        <mesh
          filename="package://inspire_tactile_hand/meshes/Link84.STL" />
      </geometry>
    </collision>
  </link>
  <joint
    name="joint834"
    type="revolute">
    <origin
      xyz="0.0024318 -0.023668 -0.034617"
      rpy="0 0 0" />
    <parent
      link="Link83" />
    <child
      link="Link84" />
    <axis
      xyz="0.99452 0 0.10453" />
    <limit
      lower="-2"
      upper="2"
      effort="50"
      velocity="1" />
  </joint>
  
  <gazebo>
  <joint
    name="joint803"
    type="revolute">
    <pose relative_to = "hand_base_link">0.032671 -0.00015498 -0.14378 0 1.4661 0</pose>
    <parent>hand_base_link</parent>
    <child>Link83</child>
    <axis>0 0 -1</axis>
    <limit
      lower="-2"
      upper="2"
      effort="50"
      velocity="1" />
  </joint>
  </gazebo>
  
  <link
    name="Link85">
    <inertial>
      <origin
        xyz="0.00040789 0.0043672 -0.042773"
        rpy="0 0 0" />
      <mass
        value="0.091809" />
      <inertia
        ixx="5.4116E-05"
        ixy="4.0634E-07"
        ixz="-1.041E-06"
        iyy="0.00010076"
        iyz="-4.6185E-07"
        izz="9.0663E-05" />
    </inertial>
    <visual>
      <origin
        xyz="0 0 0"
        rpy="0 0 0" />
      <geometry>
        <mesh
          filename="package://inspire_tactile_hand/meshes/Link85.STL" />
      </geometry>
      <material
        name="">
        <color
          rgba="1 1 1 1" />
      </material>
    </visual>
    <collision>
      <origin
        xyz="0 0 0"
        rpy="0 0 0" />
      <geometry>
        <mesh
          filename="package://inspire_tactile_hand/meshes/Link85.STL" />
      </geometry>
    </collision>
  </link>
  <joint
    name="joint805"
    type="revolute">
    <origin
      xyz="0.032726 -0.0067159 -0.13905"
      rpy="0 0 0" />
    <parent
      link="hand_base_link" />
    <child
      link="Link85" />
    <axis
      xyz="0.99452 0 0.10453" />
    <limit
      lower="-2"
      upper="2"
      effort="50"
      velocity="1" />
  </joint>
  
  <gazebo>
  <joint
    name="joint854"
    type="revolute">
    <pose relative_to = "Link85">0.0018664 -0.0025804 -0.036413 -3.1416 -1.4661 3.1416</pose>
    <parent>Link85</parent>
    <child>Link84</child>
    <axis>0 0 -1</axis>
    <limit
      lower="-2"
      upper="2"
      effort="50"      velocity="1" />
  </joint>
  </gazebo>
  
  
  
  
  
  <gazebo>
   <plugin name="gazebo_ros_control" filename="libgazebo_ros_control.so">
    <robotNamespace>/swivel</robotNamespace>
    <controlPeriod>0.001</controlPeriod>
    <robotSimType>gazebo_ros_control/DefaultRobotHWSim</robotSimType>
   </plugin>
  </gazebo>

  <transmission name="tran1">
   <type>transmission_interface/SimpleTransmission</type>
   <joint name="joint012">
    <hardwareInterface>hardware_interface/EffortJointInterface</hardwareInterface>
   </joint>
   <actuator name="motor1">
    <hardwareInterface>hardware_interface/EffortJointInterface</hardwareInterface>
    <mechanicalReduction>1</mechanicalReduction>
   </actuator>
  </transmission>
  
  <transmission name="tran2">
   <type>transmission_interface/SimpleTransmission</type>
   <joint name="joint612">
    <hardwareInterface>hardware_interface/EffortJointInterface</hardwareInterface>
   </joint>
   <actuator name="motor2">
    <hardwareInterface>hardware_interface/EffortJointInterface</hardwareInterface>
    <mechanicalReduction>1</mechanicalReduction>
   </actuator>
  </transmission>
  
  <transmission name="tran3">
   <type>transmission_interface/SimpleTransmission</type>
   <joint name="joint712">
    <hardwareInterface>hardware_interface/EffortJointInterface</hardwareInterface>
   </joint>
   <actuator name="motor3">
    <hardwareInterface>hardware_interface/EffortJointInterface</hardwareInterface>
    <mechanicalReduction>1</mechanicalReduction>
   </actuator>
  </transmission>
  
  <transmission name="tran4">
   <type>transmission_interface/SimpleTransmission</type>
   <joint name="joint812">
    <hardwareInterface>hardware_interface/EffortJointInterface</hardwareInterface>
   </joint>
   <actuator name="motor4">
    <hardwareInterface>hardware_interface/EffortJointInterface</hardwareInterface>
    <mechanicalReduction>1</mechanicalReduction>
   </actuator>
  </transmission>
  
  <transmission name="tran5">
   <type>transmission_interface/SimpleTransmission</type>
   <joint name="joint412">
    <hardwareInterface>hardware_interface/EffortJointInterface</hardwareInterface>
   </joint>
   <actuator name="motor5">
    <hardwareInterface>hardware_interface/EffortJointInterface</hardwareInterface>
    <mechanicalReduction>1</mechanicalReduction>
   </actuator>
  </transmission>
  
  <transmission name="tran6">
   <type>transmission_interface/SimpleTransmission</type>
   <joint name="joint456">
    <hardwareInterface>hardware_interface/EffortJointInterface</hardwareInterface>
   </joint>
   <actuator name="motor6">
    <hardwareInterface>hardware_interface/EffortJointInterface</hardwareInterface>
    <mechanicalReduction>1</mechanicalReduction>
   </actuator>
  </transmission>
  
  
  
</robot>
